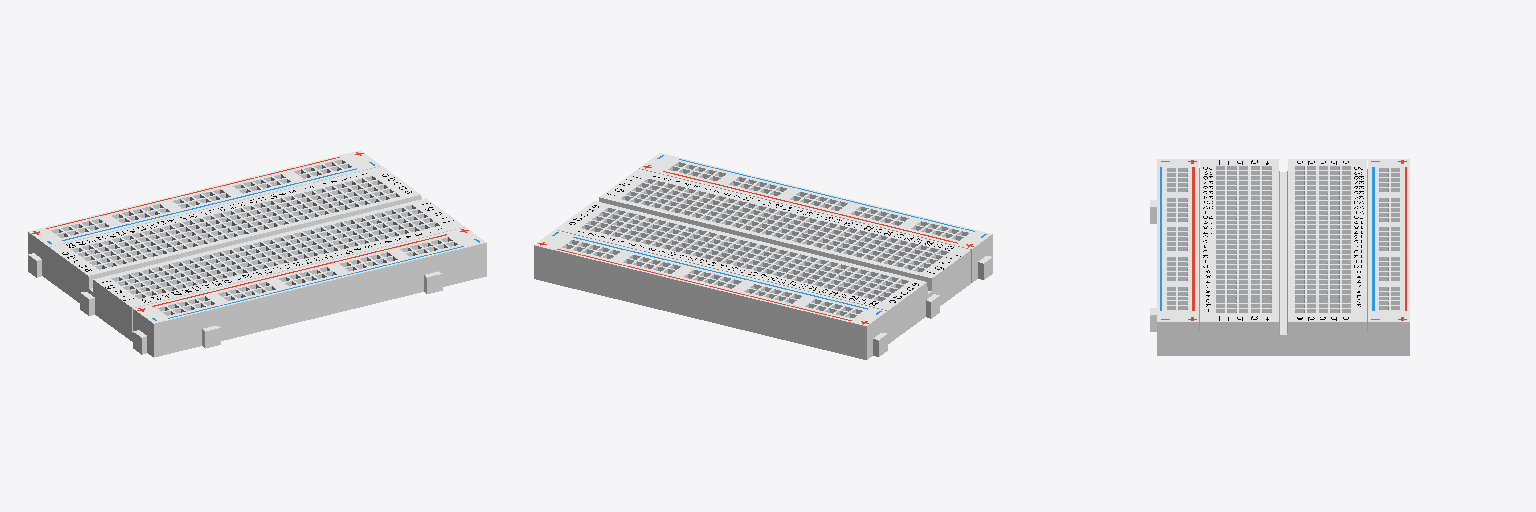
Rendered from BreadBoard.obj.
3 renders of one model, left to right at view 1: azimuth 30°, elevation 25°; view 2: azimuth 150°, elevation 25°; view 3: azimuth 270°, elevation 25°, orthographic.
Parts seen in each view (by area): view 1: Solid3, Solid1, Solid2; view 2: Solid3, Solid2, Solid1; view 3: Solid3, Solid1, Solid2.
Part boxes in pixels (x1,y1,x2,y2): Solid3: (49, 166, 464, 341); Solid1: (133, 227, 486, 357); Solid2: (28, 150, 380, 280); Solid3: (555, 169, 970, 343); Solid2: (534, 230, 887, 359); Solid1: (639, 153, 992, 282); Solid3: (1200, 159, 1366, 355); Solid1: (1150, 159, 1199, 355); Solid2: (1367, 159, 1409, 355).
Bounding box in the file's own units: 83.8 × 8.01 × 55.5.